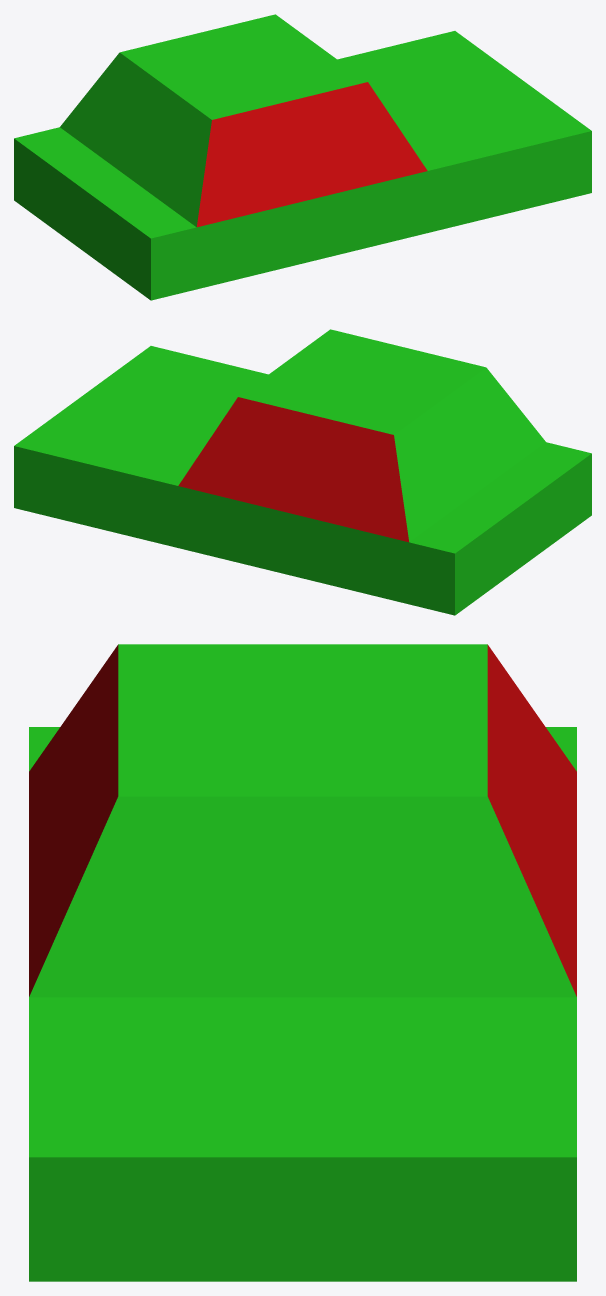
The model's file is car_chassis.obj.
The picture shows the model from 3 angles, top to bottom: view 1: azimuth 30°, elevation 25°; view 2: azimuth 150°, elevation 25°; view 3: azimuth 270°, elevation 25°; orthographic projection. The views are drawn at different scales.
Visible parts, largest first — view 1: Cube; view 2: Cube; view 3: Cube.
Boxes of the visible parts, x1,y1,x2,y2 form: Cube: (14,14,591,300); Cube: (14,329,591,615); Cube: (29,644,576,1281).
Size of the model in its own units: 4.95 by 1.54 by 2.66.
